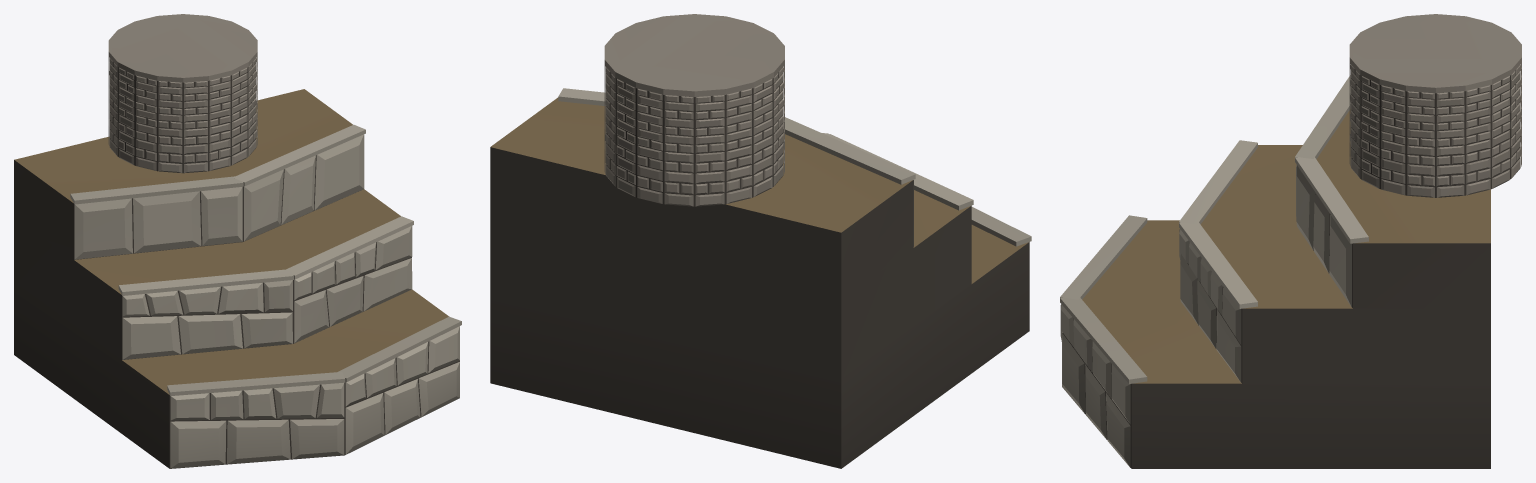
Rendered from cusco_sacsay_round_lod0.glb.
3 views of the same model, side by side, from view 1: azimuth 30°, elevation 25°; view 2: azimuth 150°, elevation 25°; view 3: azimuth 270°, elevation 25° (orthographic). The views are drawn at different scales.
Visible parts, largest first — view 1: GEO-Arch_cusco_sacsay_round_LOD0; view 2: GEO-Arch_cusco_sacsay_round_LOD0; view 3: GEO-Arch_cusco_sacsay_round_LOD0.
Part boxes in pixels (box(x1,y1,x2,y2)): GEO-Arch_cusco_sacsay_round_LOD0: box(14, 14, 461, 468); GEO-Arch_cusco_sacsay_round_LOD0: box(490, 14, 1031, 468); GEO-Arch_cusco_sacsay_round_LOD0: box(1060, 14, 1521, 468).
Bounding box in the file's own units: 14.07 × 13.42 × 16.71.
